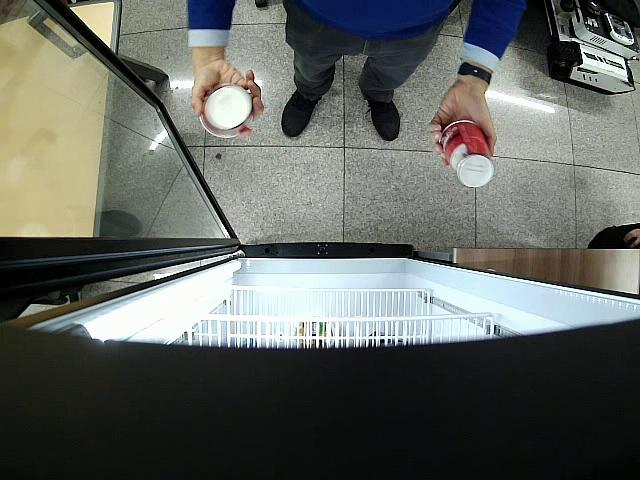00_hand: (193, 58, 264, 138), (432, 90, 496, 167)
02_shinRamen_S: (440, 121, 493, 188), (198, 86, 256, 137)
